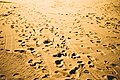human_footprint: (52, 51, 68, 58), (54, 58, 64, 68), (42, 39, 52, 46)
